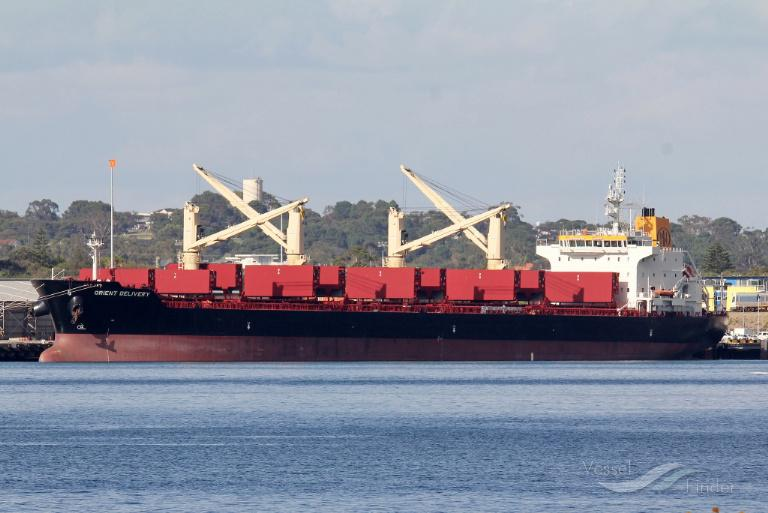OCR: (86, 284, 157, 304)
